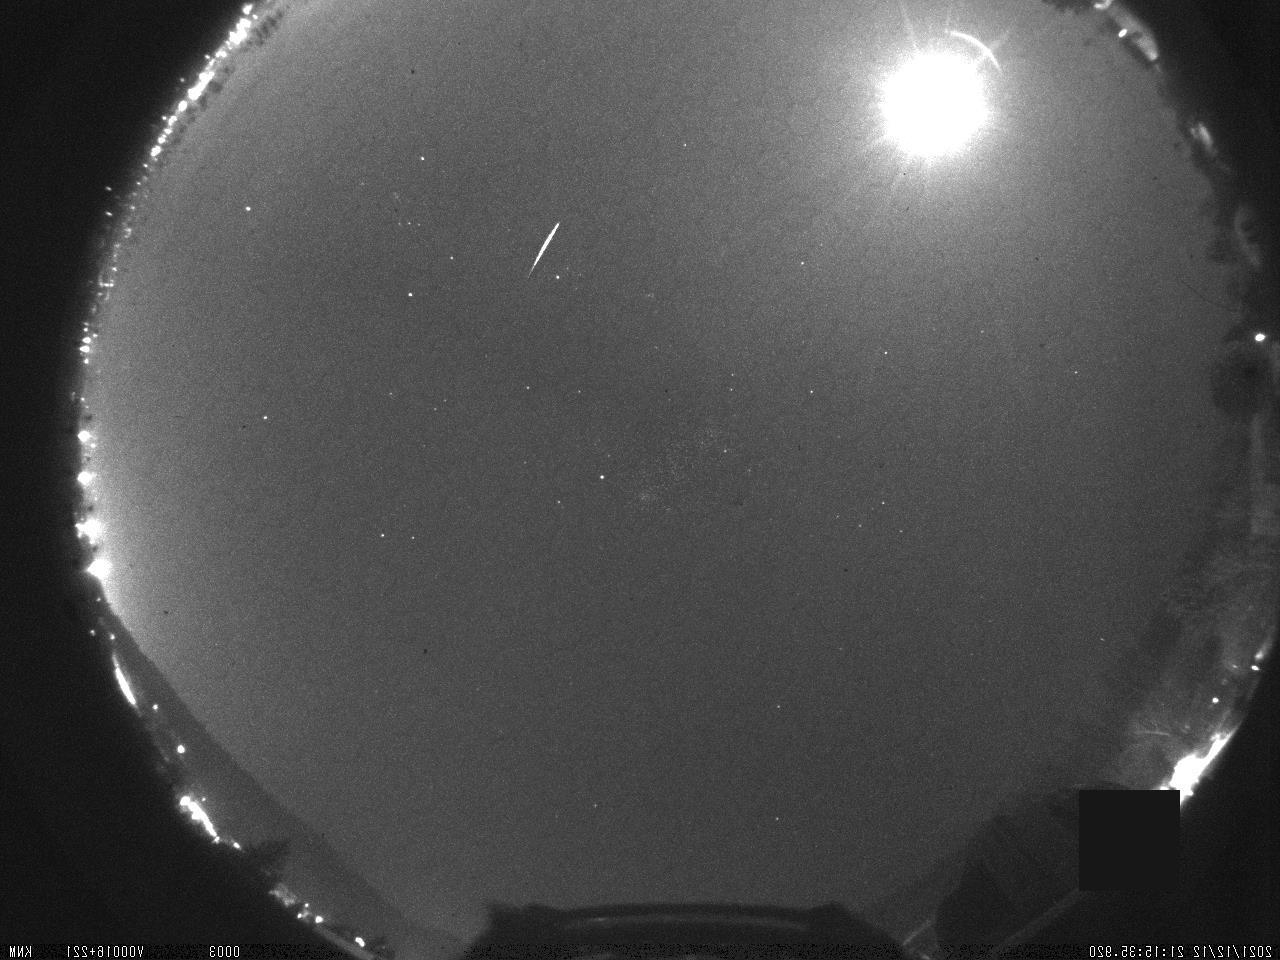meteor: (460, 199, 591, 302)
